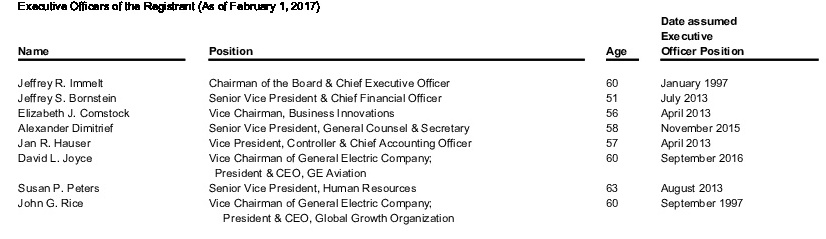table: (0, 0, 826, 239)
